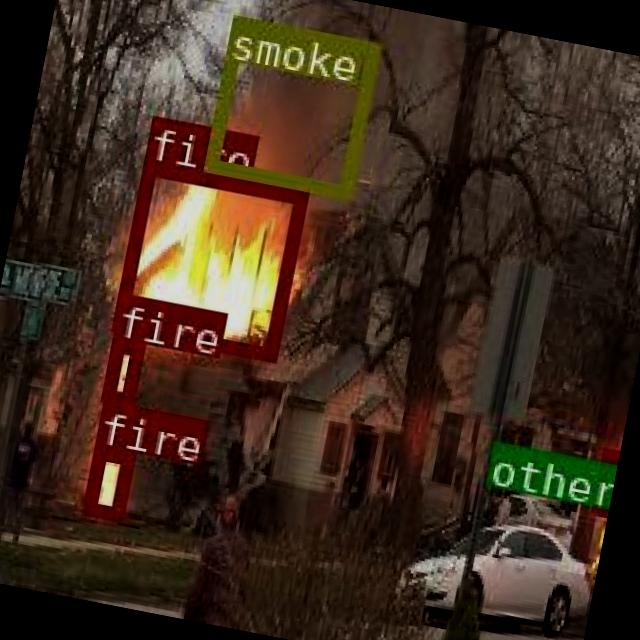fire: (109, 159, 305, 360), (82, 443, 132, 518), (101, 335, 142, 403), (596, 449, 615, 512)
smoke: (203, 13, 378, 195)
